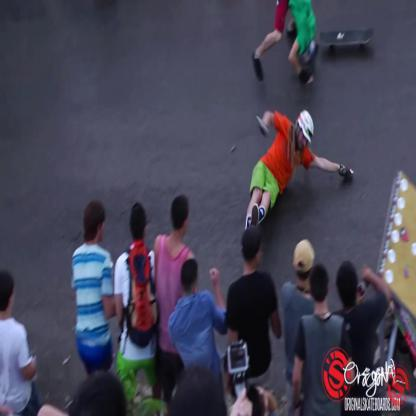Fall_Down: (244, 110, 356, 250)
